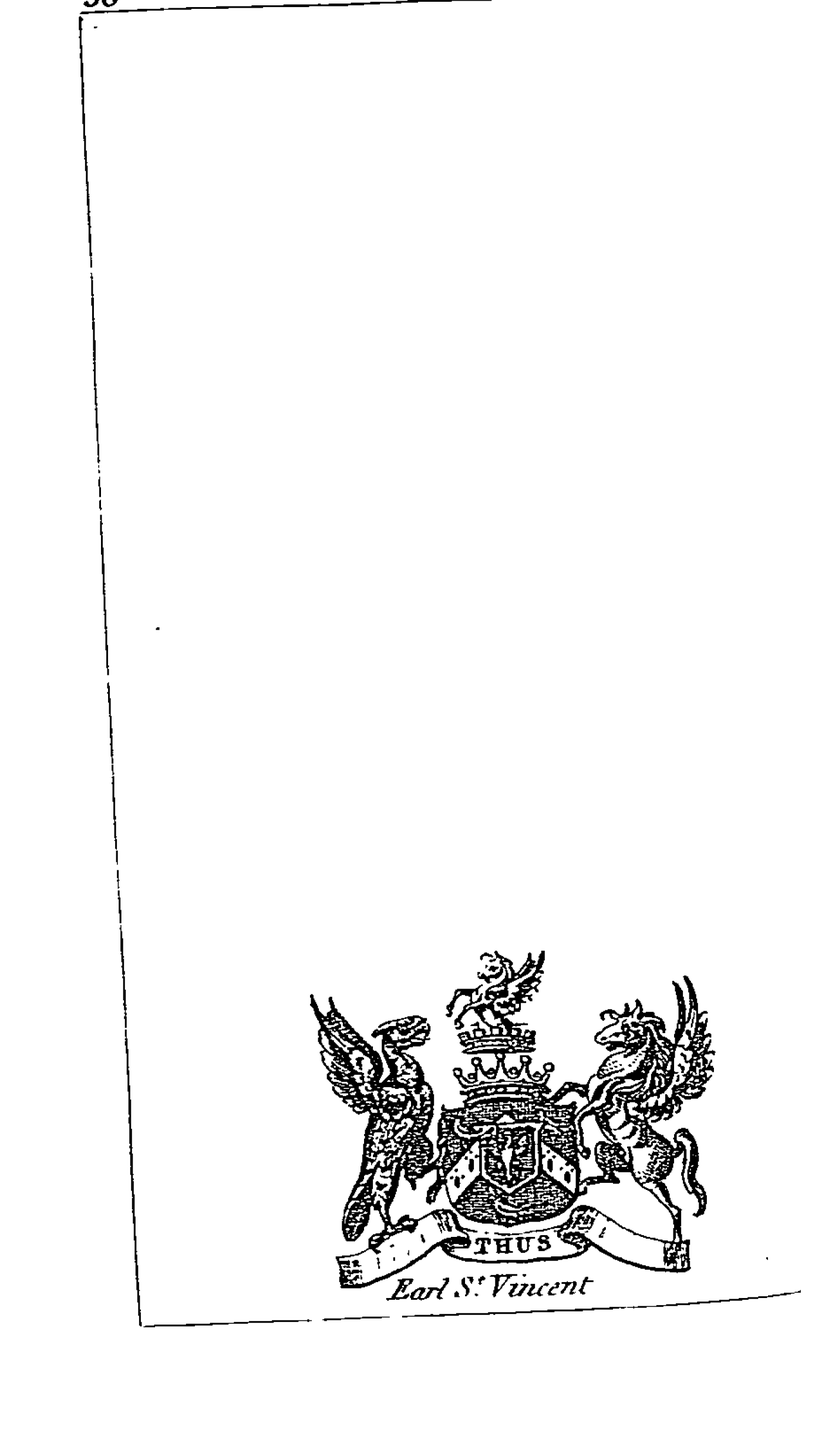coat_of_arms: (297, 932, 711, 1294)
